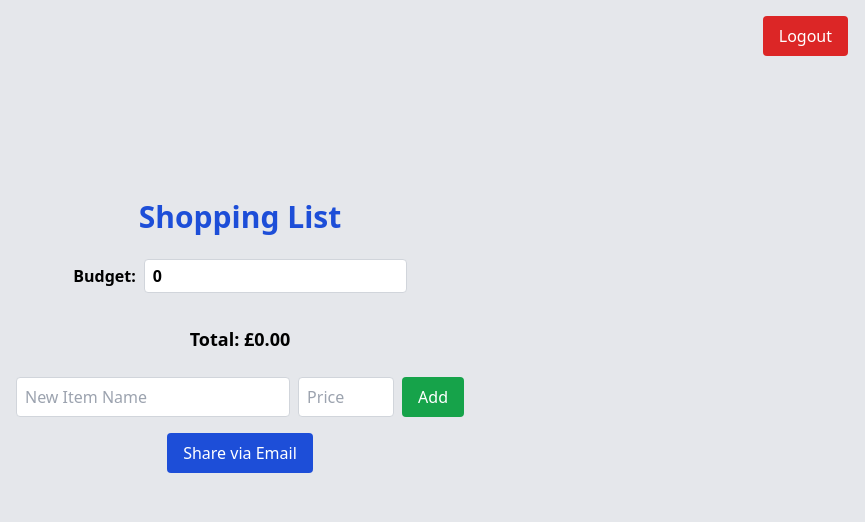
adds a new item
Type "Apples" into the field with placeholder "New Item Name".
click(153, 397); type("Apples")  # box [16,377,290,417]
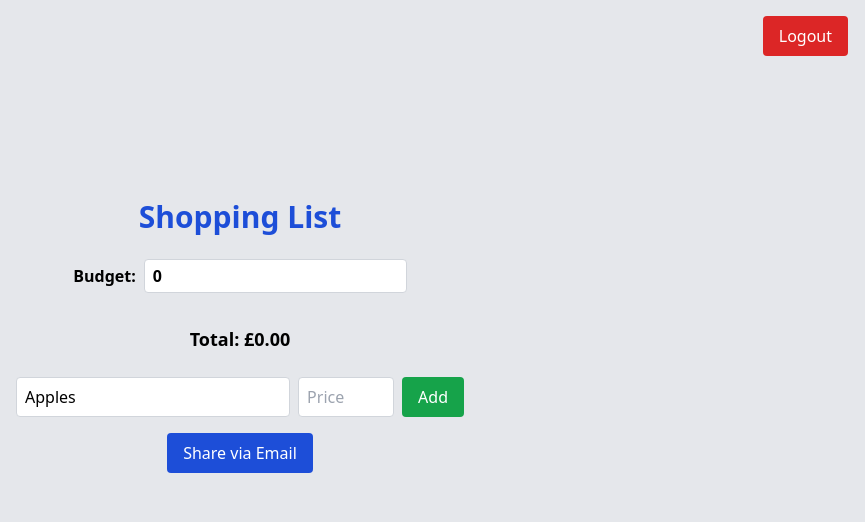
Type "2" into the field with placeholder "Price".
click(346, 397); type("2")  # box [298,377,394,417]
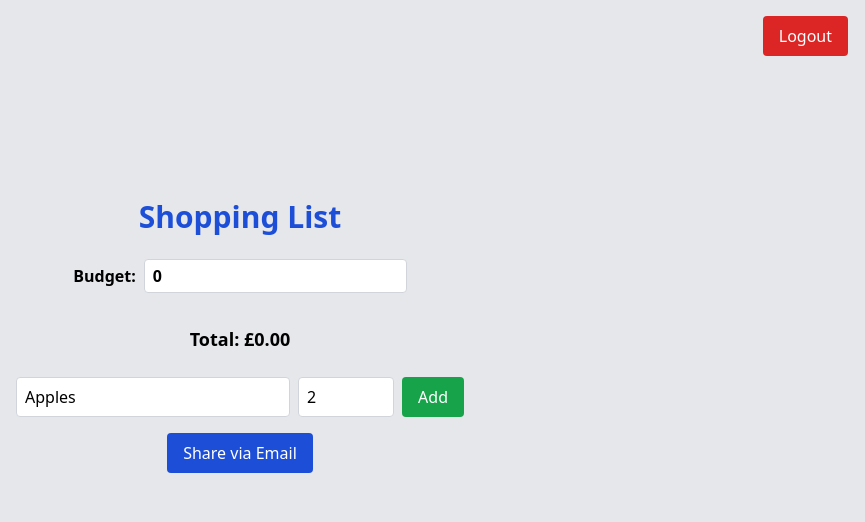
Click the button "Add".
click(433, 397)  # box [402,377,464,417]
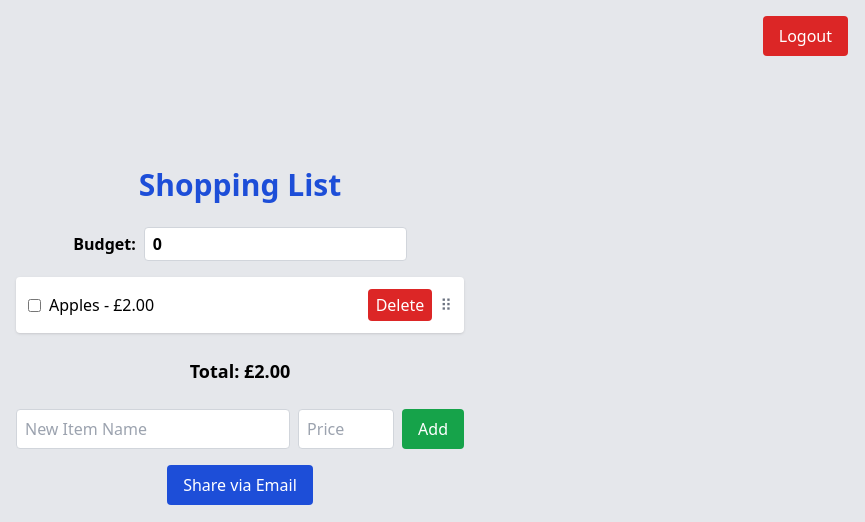
Expected: the text "Apples - £2.00" is shown, [49,294,154,316]
